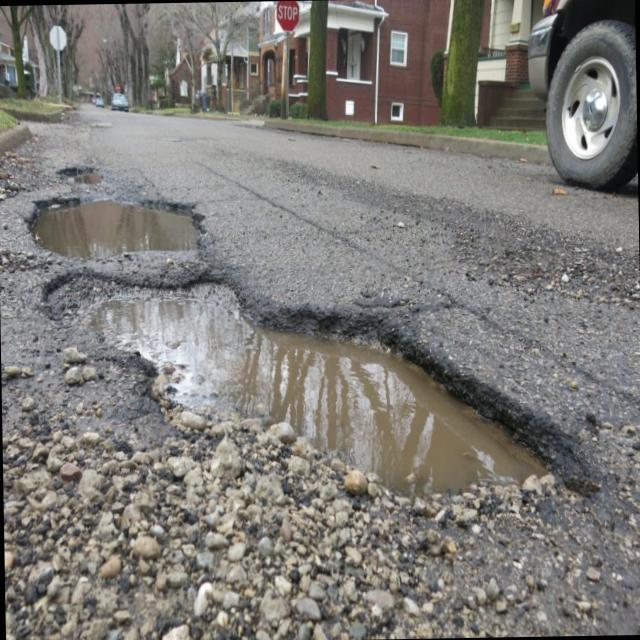Pothole: (150, 278, 416, 526), (38, 184, 206, 256)
